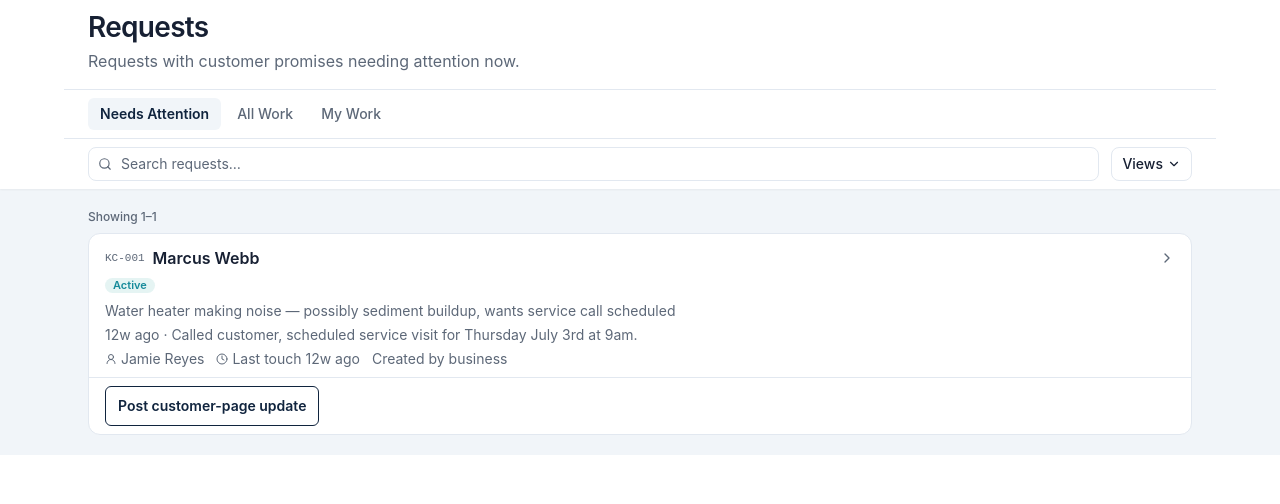
Requests — GAP-046 filter-state visibility and recovery › shows no applied-criteria line in the untouched default queue, then a submitted-search line
Expected: the heading "Showing 1–1" is shown, [88, 209, 157, 224]
Expected: the text "Applied:" is not shown
Type "smith" into the field labelled "Search requests". click: (594, 164)
box: [88, 147, 1099, 181]
Then press Enter
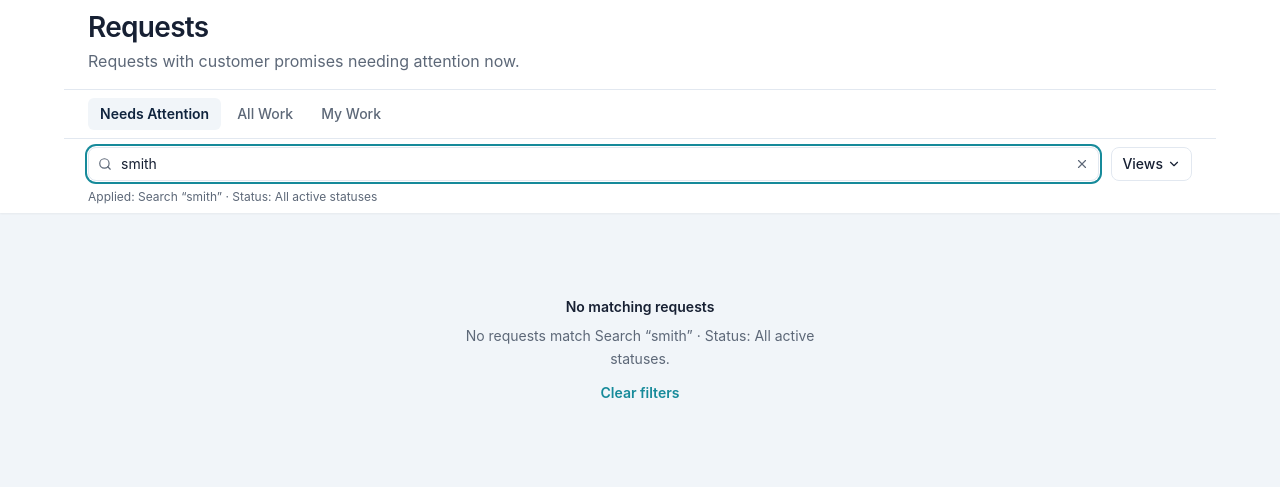
Expected: the text "Applied: Search “smith” · Status: All active statuses" is shown, [88, 189, 377, 204]
